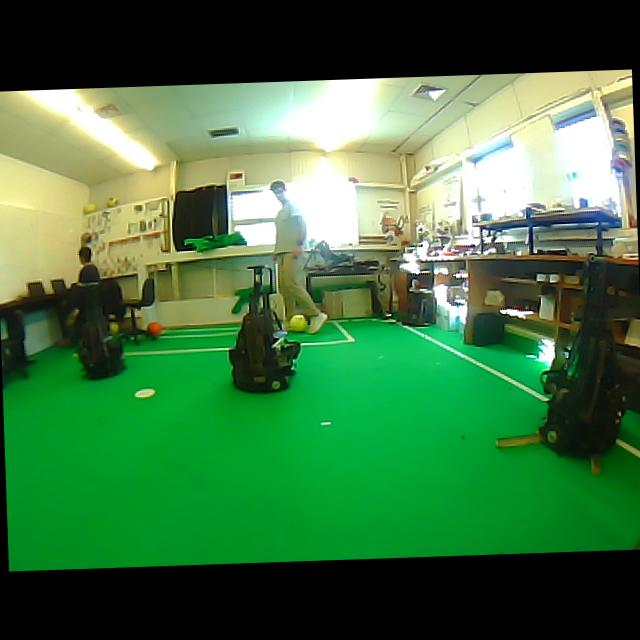ball: (288, 314, 306, 331), (146, 321, 163, 335), (82, 204, 97, 214), (106, 196, 118, 207), (109, 321, 119, 334)
robot: (539, 317, 625, 455), (228, 265, 299, 391), (78, 305, 125, 378)
